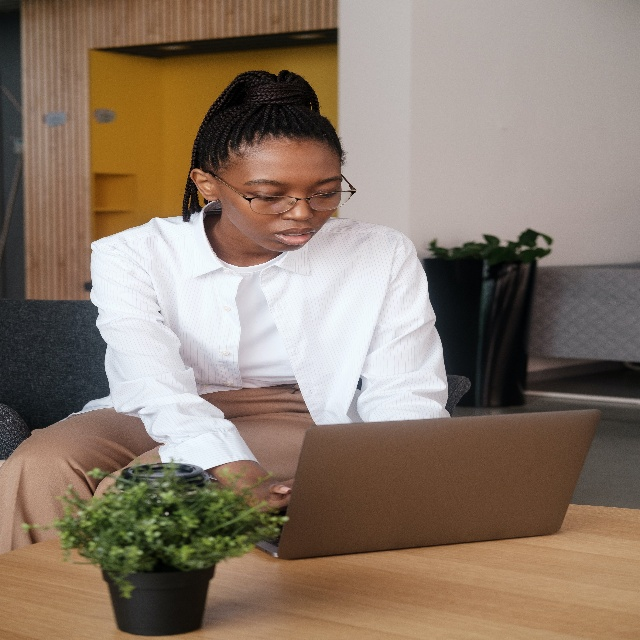Gafas: (203, 166, 357, 214)
